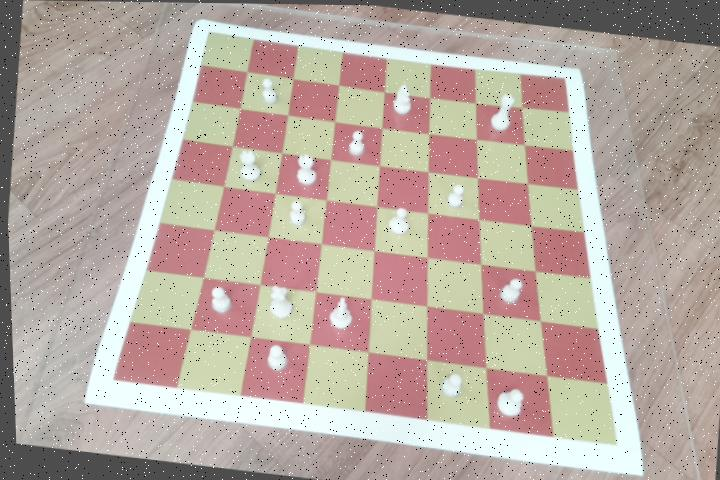chessboard-detect: (110, 32, 614, 443)
